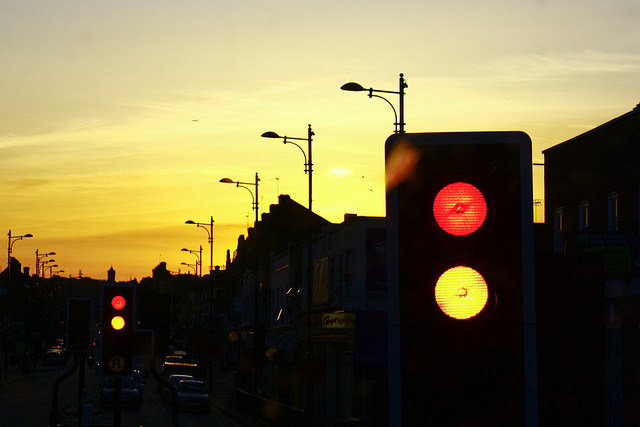car: (170, 371, 213, 418)
